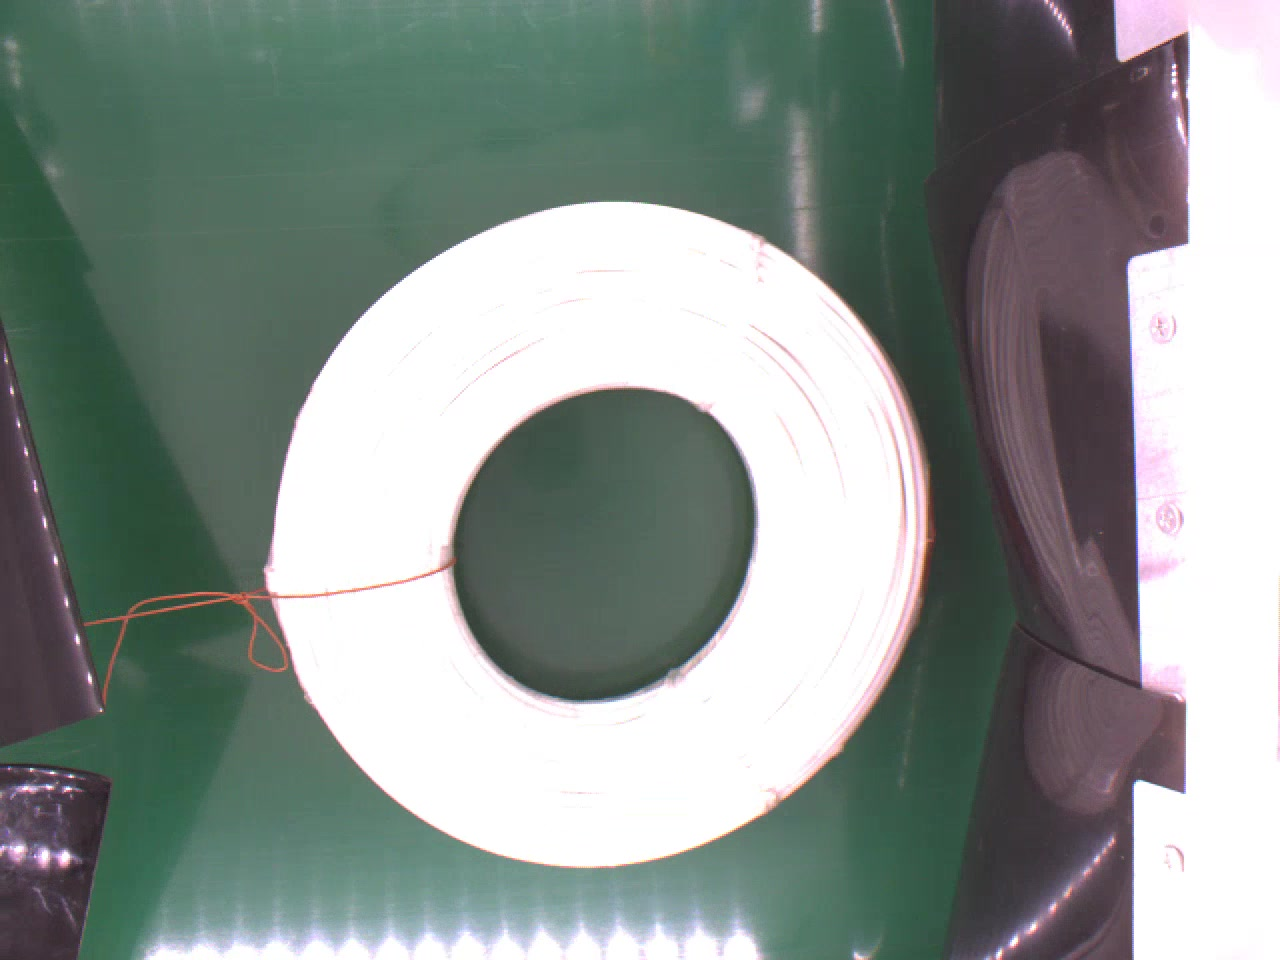white: (249, 185, 933, 869)
